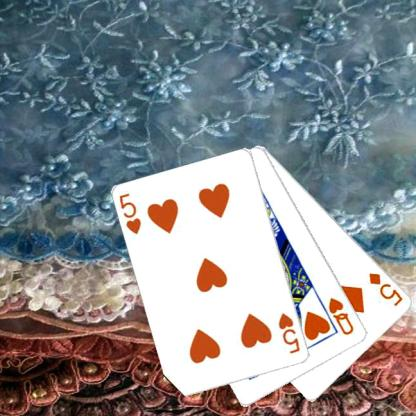5D: (366, 270, 404, 308)
5H: (116, 190, 143, 236), (276, 310, 302, 356)
QH: (326, 295, 356, 337)
